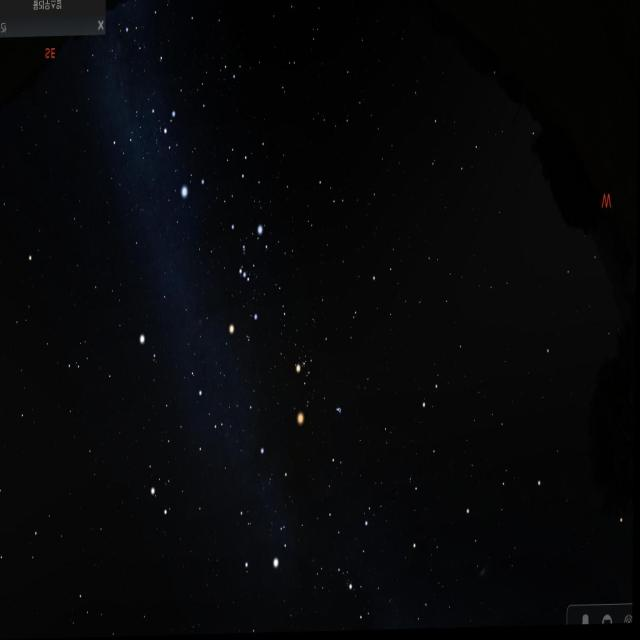canis_major: (160, 107, 210, 211)
canis_minor: (131, 320, 164, 370)
gemini: (152, 357, 233, 529)
orion: (222, 209, 265, 343)
pleiades: (330, 402, 350, 424)
taurus: (289, 320, 370, 430)
